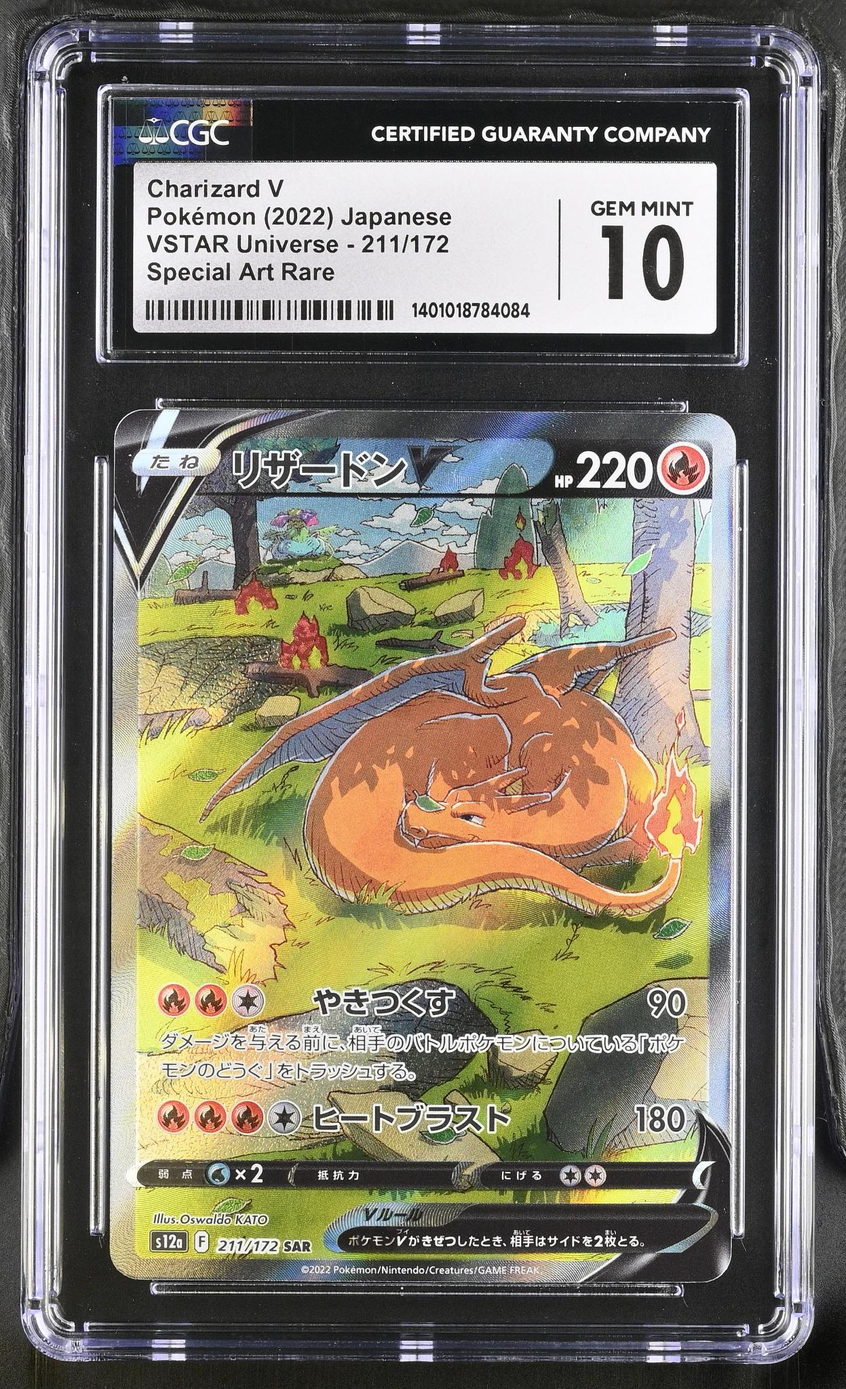card-2UtV: (109, 409, 736, 1283)
